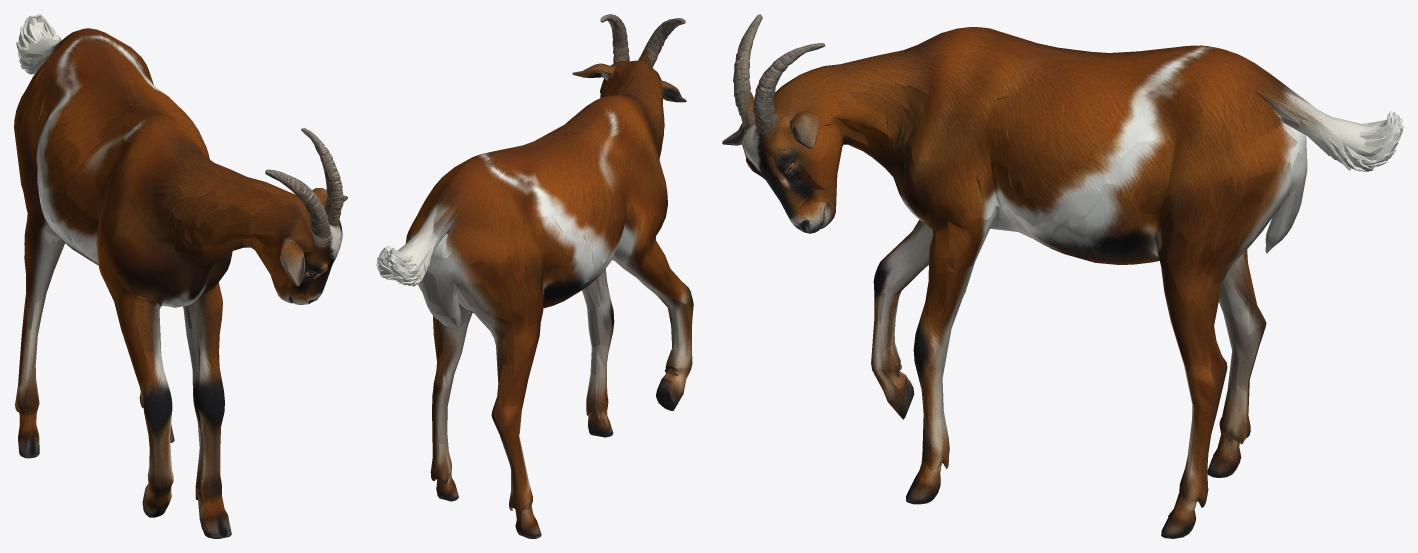
File: goat.glb
3 renders of one model, left to right at view 1: azimuth 30°, elevation 25°; view 2: azimuth 150°, elevation 25°; view 3: azimuth 270°, elevation 25°, orthographic. The views are drawn at different scales.
Parts seen in each view (by area): view 1: goat; view 2: goat; view 3: goat.
Boxes of the visible parts, left/top/right/bottom form: goat: left=14, top=14, right=347, bottom=538; goat: left=376, top=14, right=693, bottom=538; goat: left=722, top=14, right=1403, bottom=538.
Size of the model in its own units: 0.322 by 0.7828 by 0.9998.
1 material, 1 textured.
